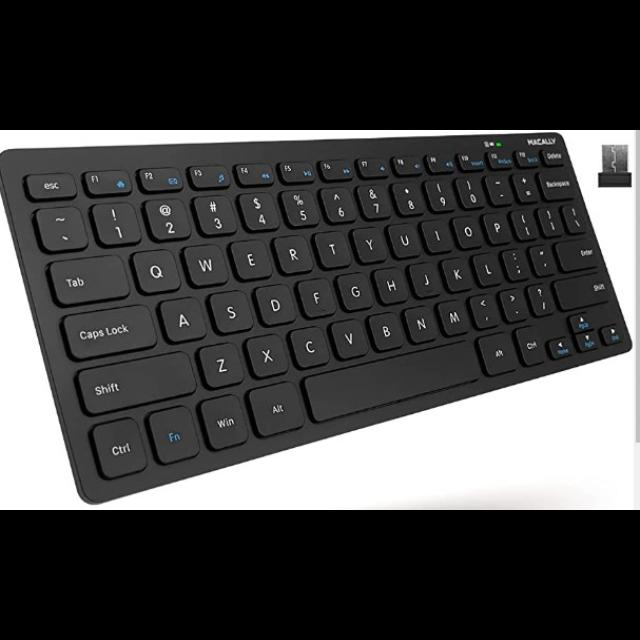Computer-Keyboard: (0, 132, 634, 507)
